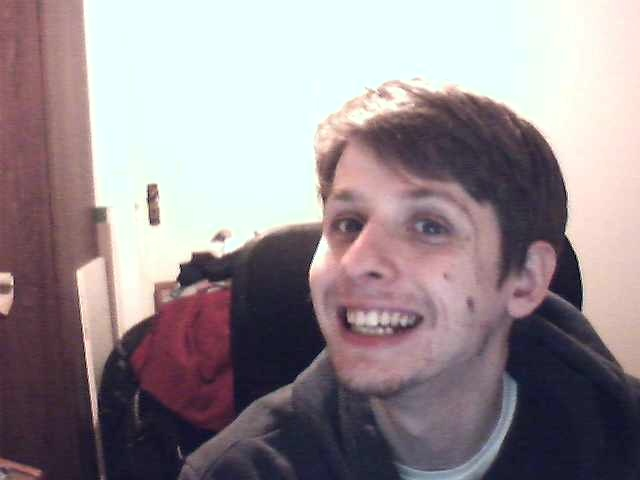noMask: (297, 243, 501, 389)
